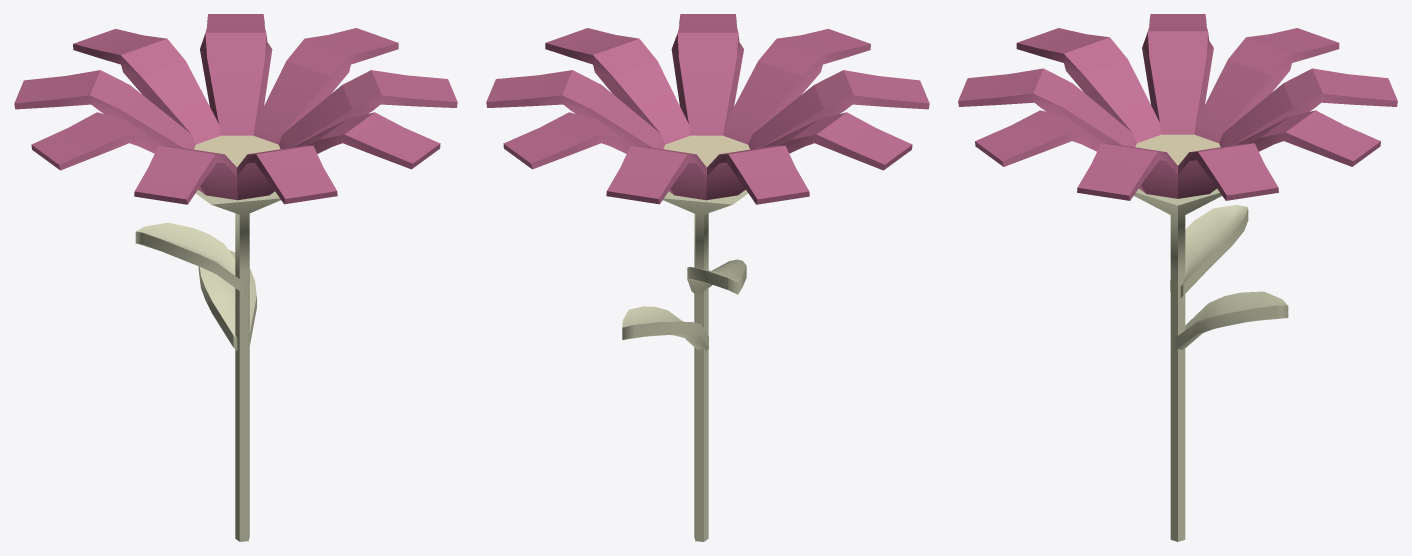
The model's file is flower05.fbx.
The picture shows the model from 3 angles, left to right: view 1: azimuth 30°, elevation 25°; view 2: azimuth 150°, elevation 25°; view 3: azimuth 270°, elevation 25°; orthographic projection.
Visible parts, largest first — view 1: pPipe21, pPipe20, pCube13, pCube12, pCylinder4; view 2: pPipe21, pPipe20, pCube12, pCube13, pCylinder4; view 3: pPipe21, pPipe20, pCube13, pCube12, pCylinder4.
Part boxes in pixels (x1,y1,x2,y2): pPipe21: (14,14,457,204); pPipe20: (195,190,280,541); pCube13: (135,222,244,294); pCube12: (198,250,256,350); pCylinder4: (194,135,280,166); pPipe21: (486,14,929,204); pPipe20: (663,190,748,541); pCube12: (622,306,708,350); pCube13: (687,259,746,294); pCylinder4: (663,135,749,166); pPipe21: (958,14,1397,200); pPipe20: (1134,188,1221,541); pCube13: (1170,205,1248,297); pCube12: (1175,291,1288,350); pCylinder4: (1135,134,1220,165).
Size of the model in its own units: 7.9 by 8.93 by 8.02.
